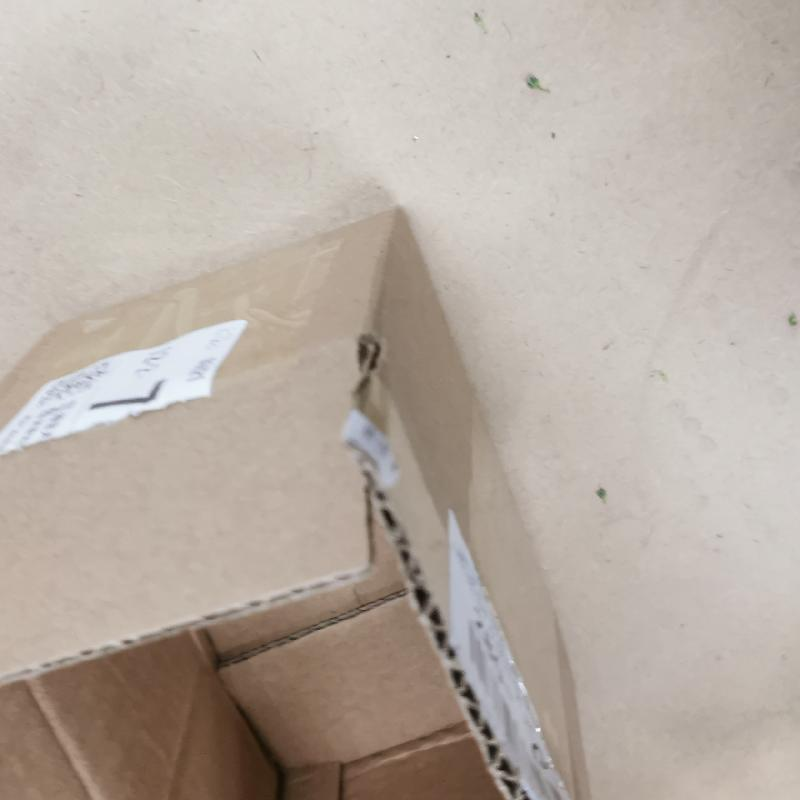boxes: (14, 209, 599, 799)
